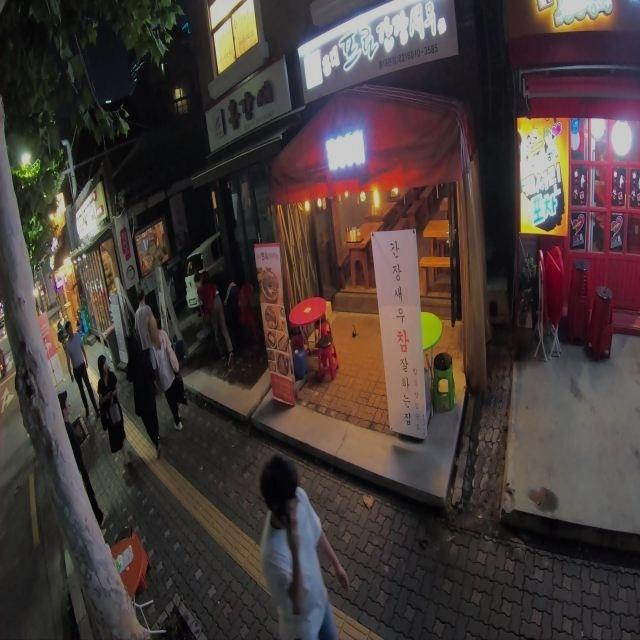non-fight: (256, 452, 350, 640), (146, 315, 188, 430), (126, 335, 164, 456), (97, 355, 133, 471), (64, 322, 100, 419), (132, 292, 165, 350)
